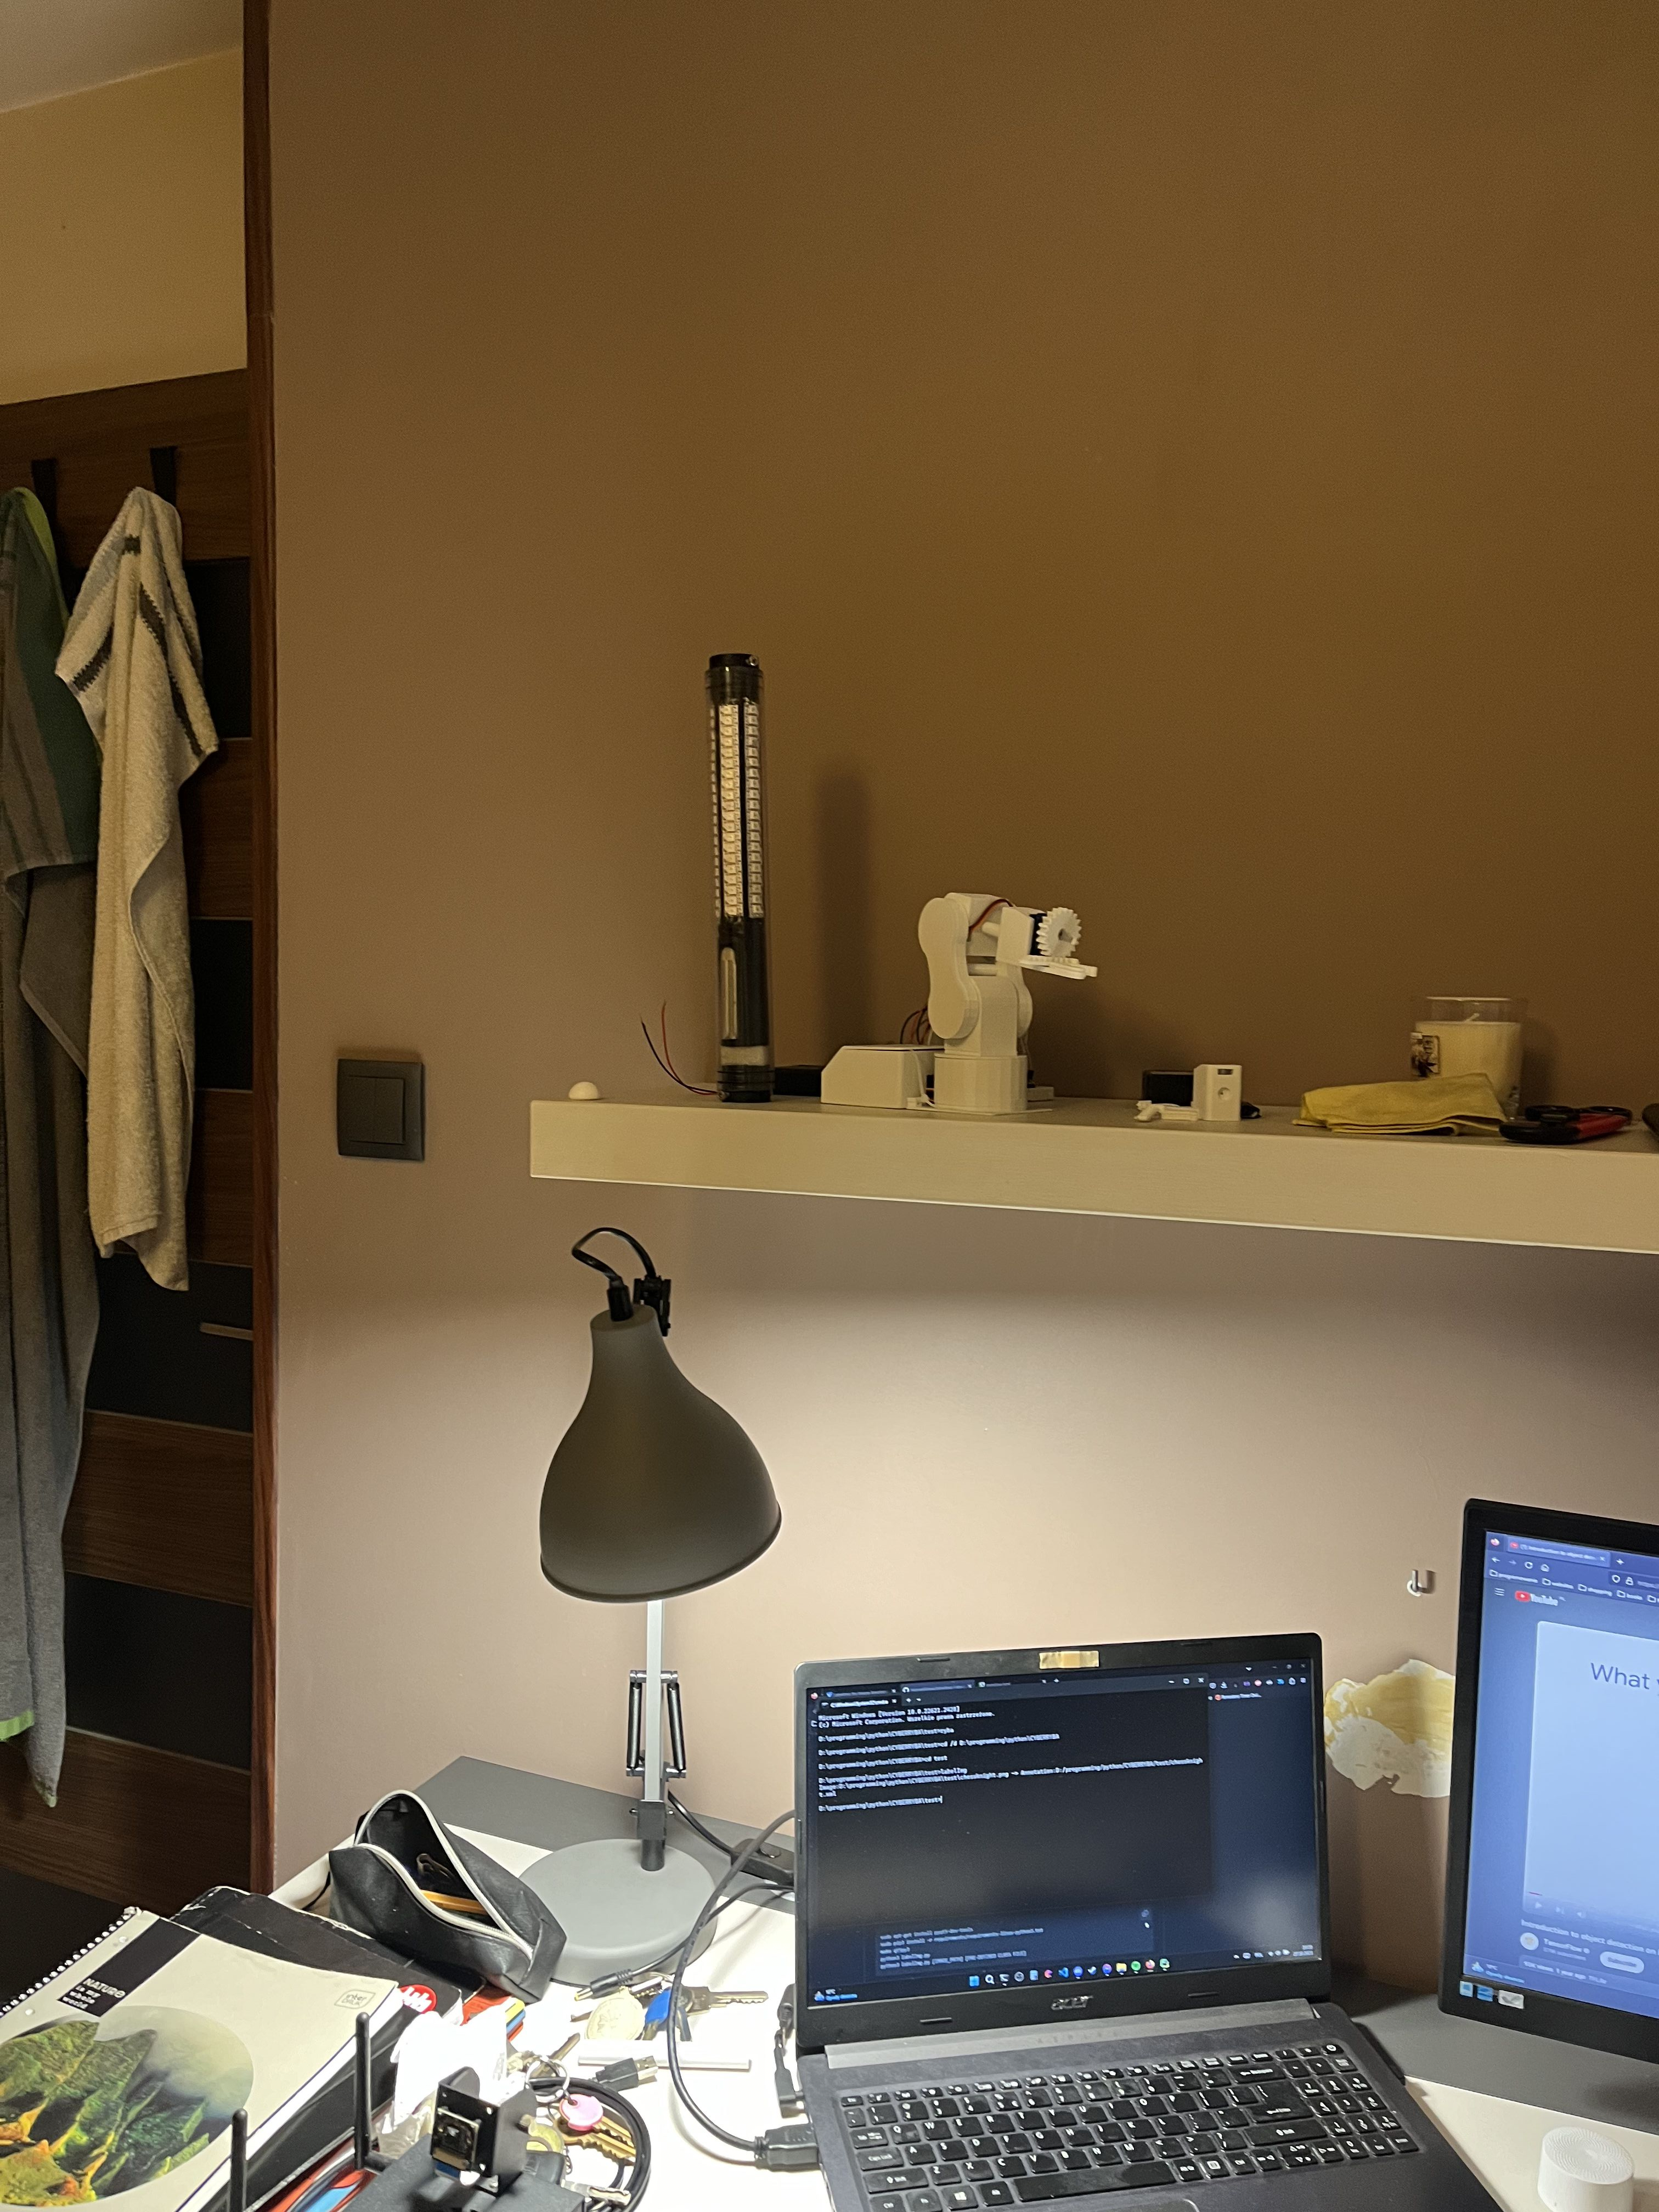black: (708, 669, 769, 1090)
